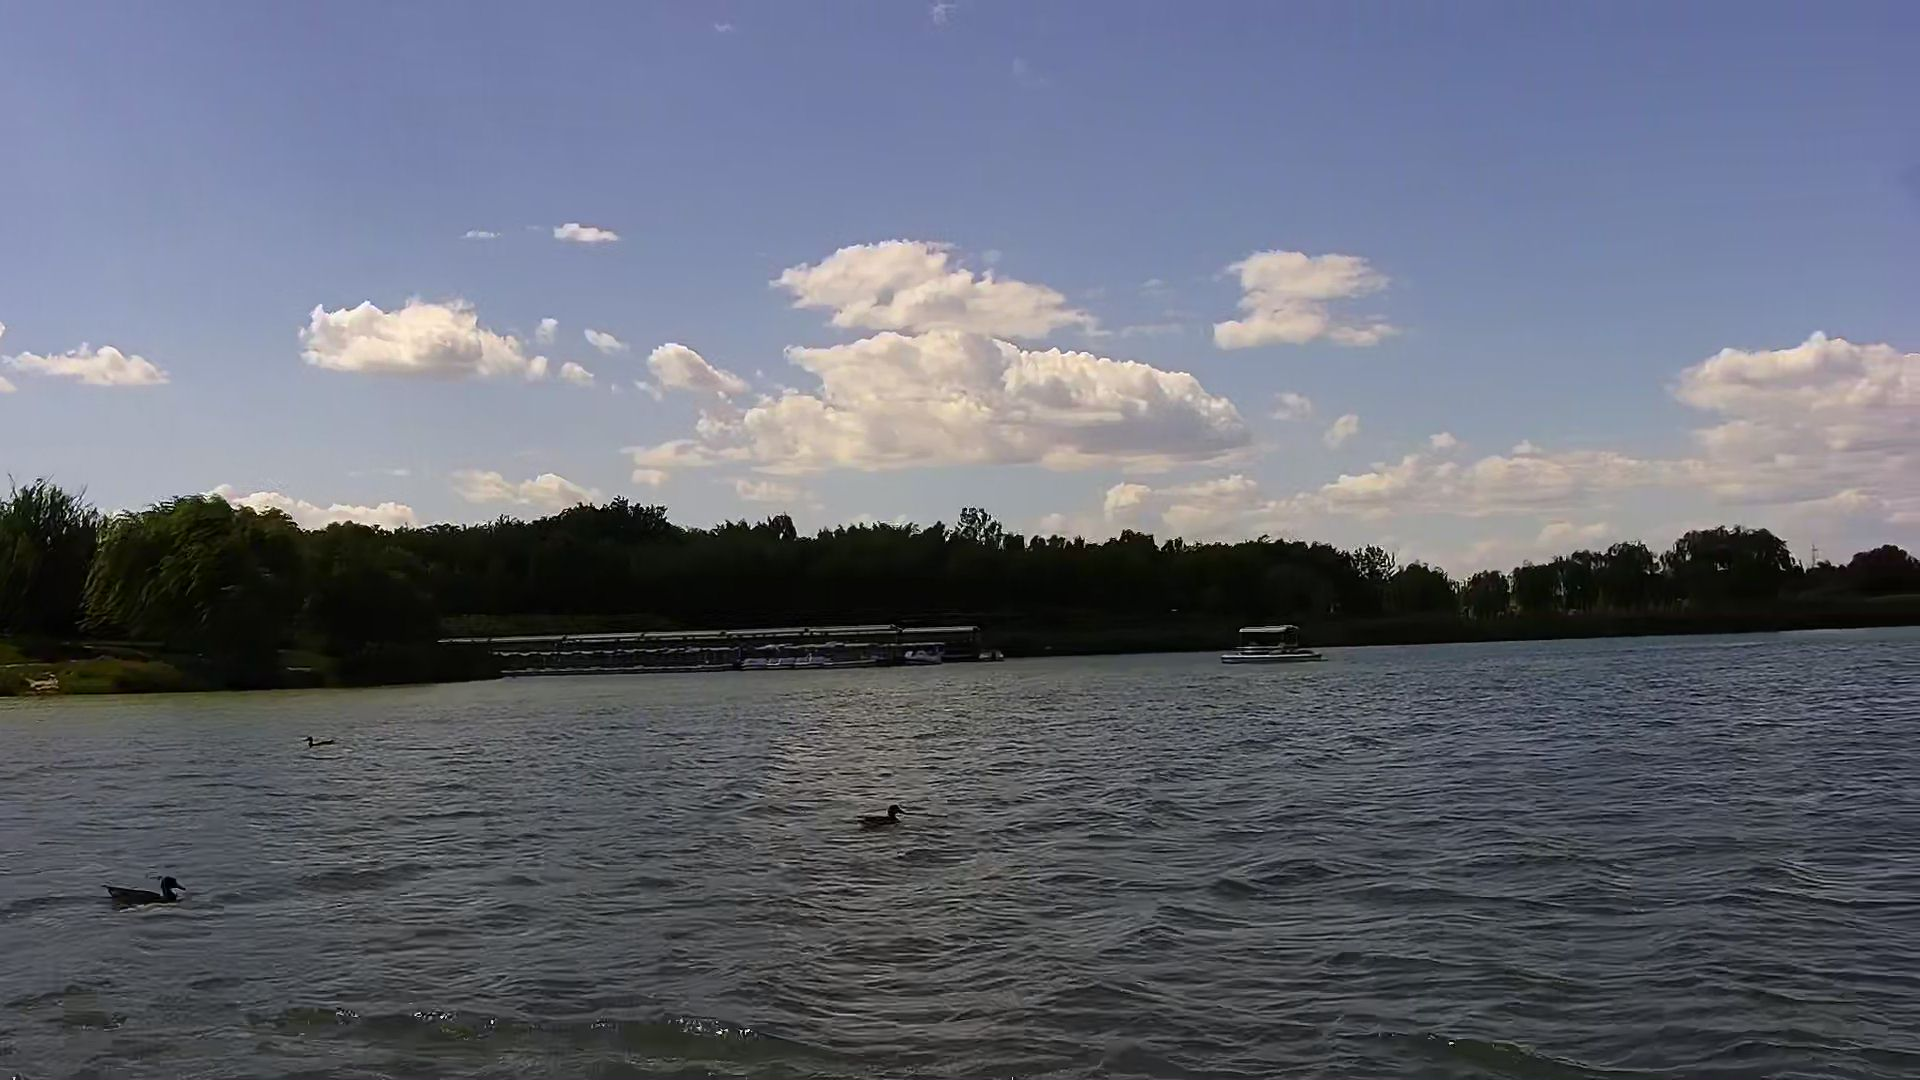animal: (104, 878, 181, 909), (860, 804, 901, 833)
boat: (1222, 622, 1304, 659)
harbor: (512, 634, 984, 661)
rock: (30, 676, 67, 690)
